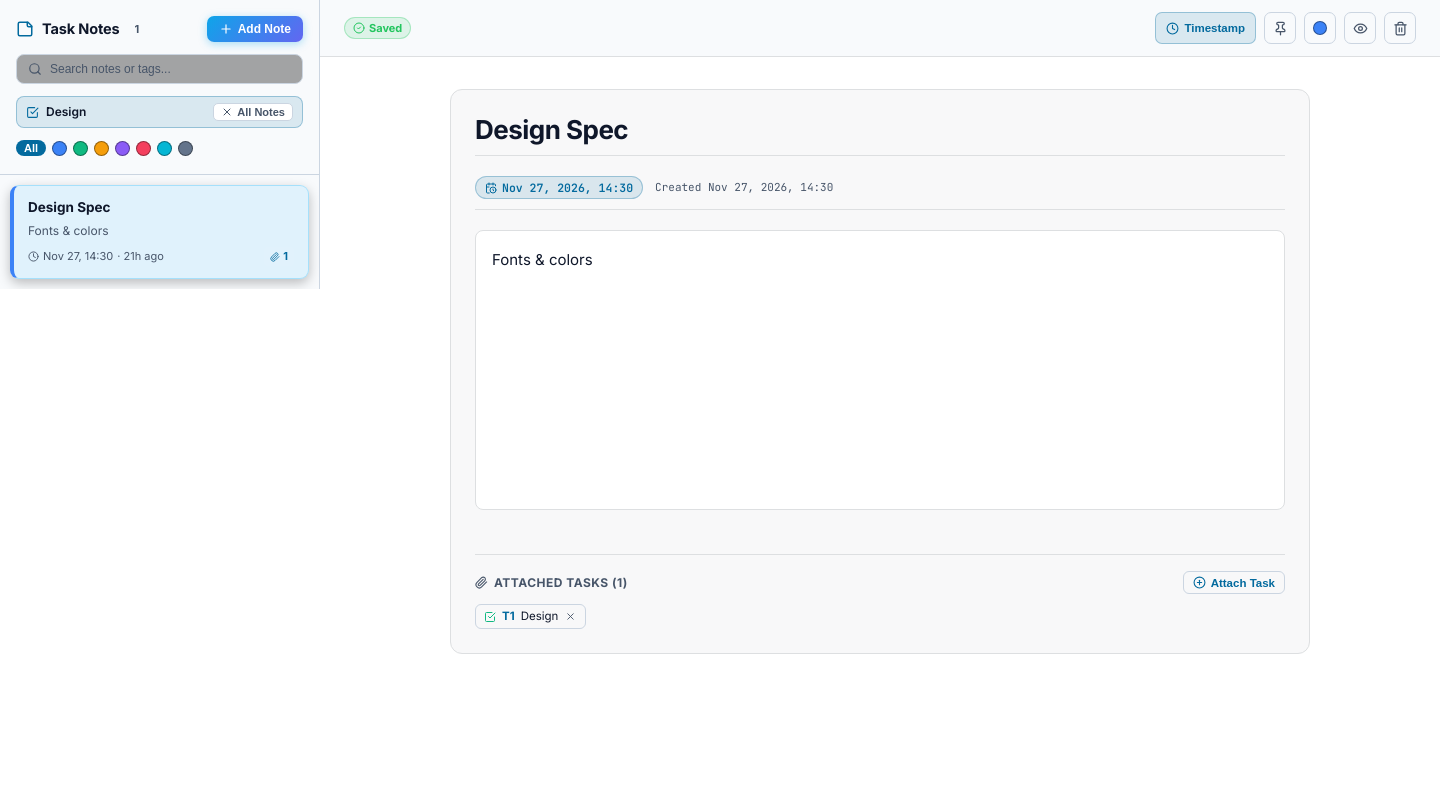
Test: NotesView › filters notes by task from notesIntent and creates linked timestamped notes for that task
The image size is (1440, 810).
Expected: the text with class "notes-task-banner-label" reads "Design", [46,104,86,119]
Expected: the element with class "note-timestamps-bar" shows "14:30", [475,176,643,199]
# Clicking Stamp Time inserts a formatted inline timestamp and saves it
Step 1. Click the button with class "note-stamp-btn" → (1206, 28), box [1156,12,1256,44]
Wait 400 ms
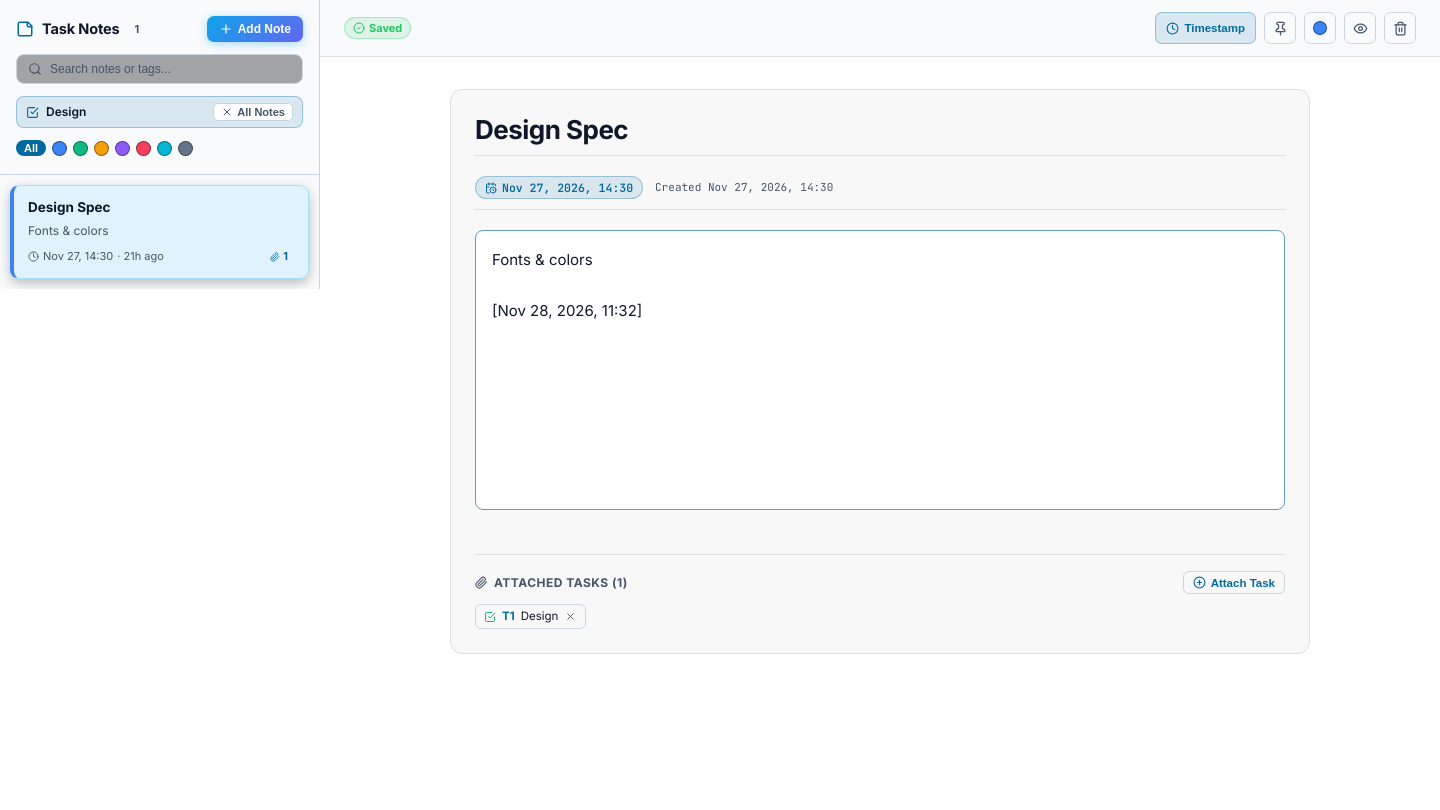
Result: the field with class "note-contenteditable-surface" reads "Fonts & colors [Nov 28, 2026, 11:32]" at [475,230,1285,510]
# Creating a new note while scoped to task T1 links task_ids: ["T1"] and sets timestamp
Step 2. Click the button with class "notes-new-btn" → (255, 29), box [207,16,303,42]
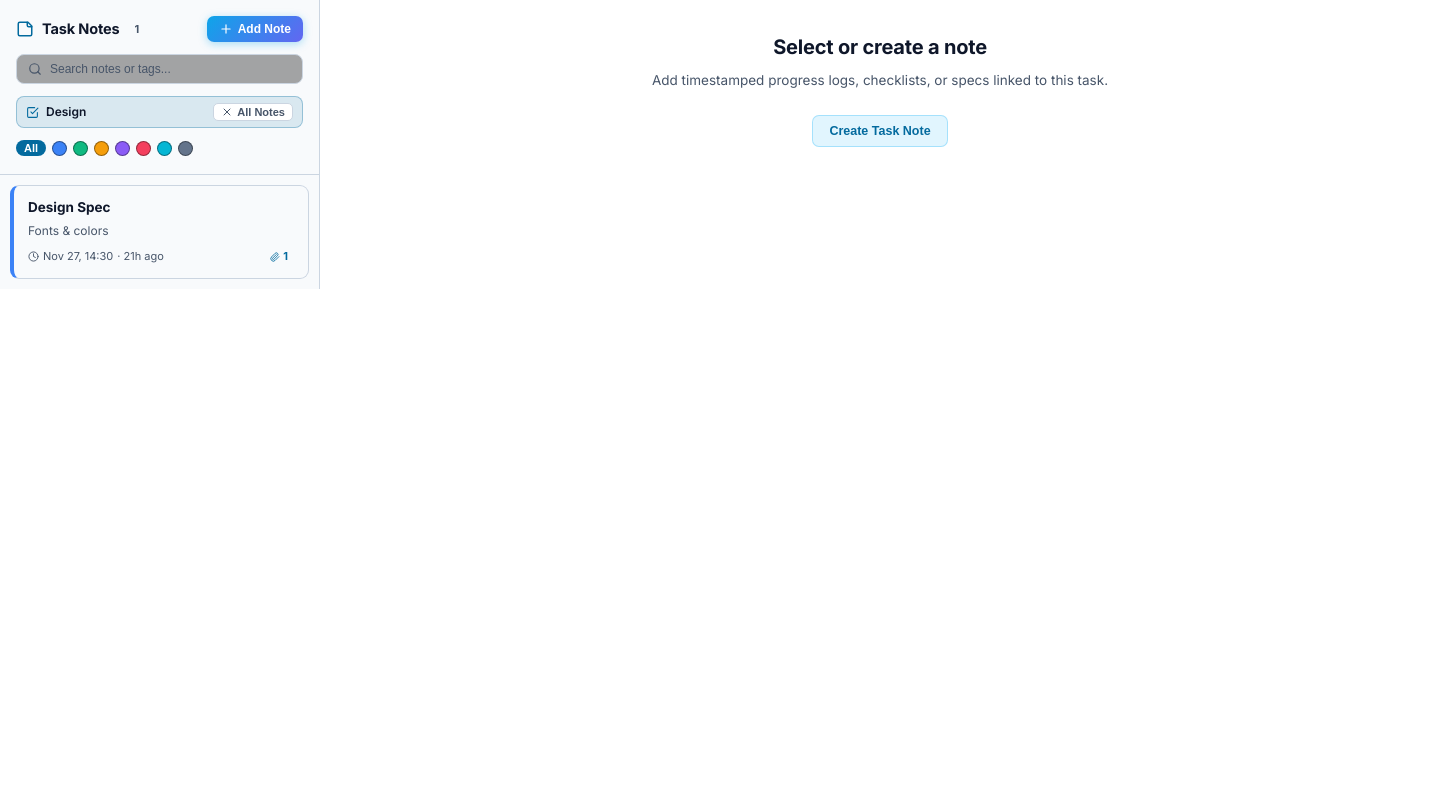
# Clearing the task filter restores all notes
Step 3. Click the button with class "notes-task-clear-btn" → (253, 112), box [213,103,293,121]
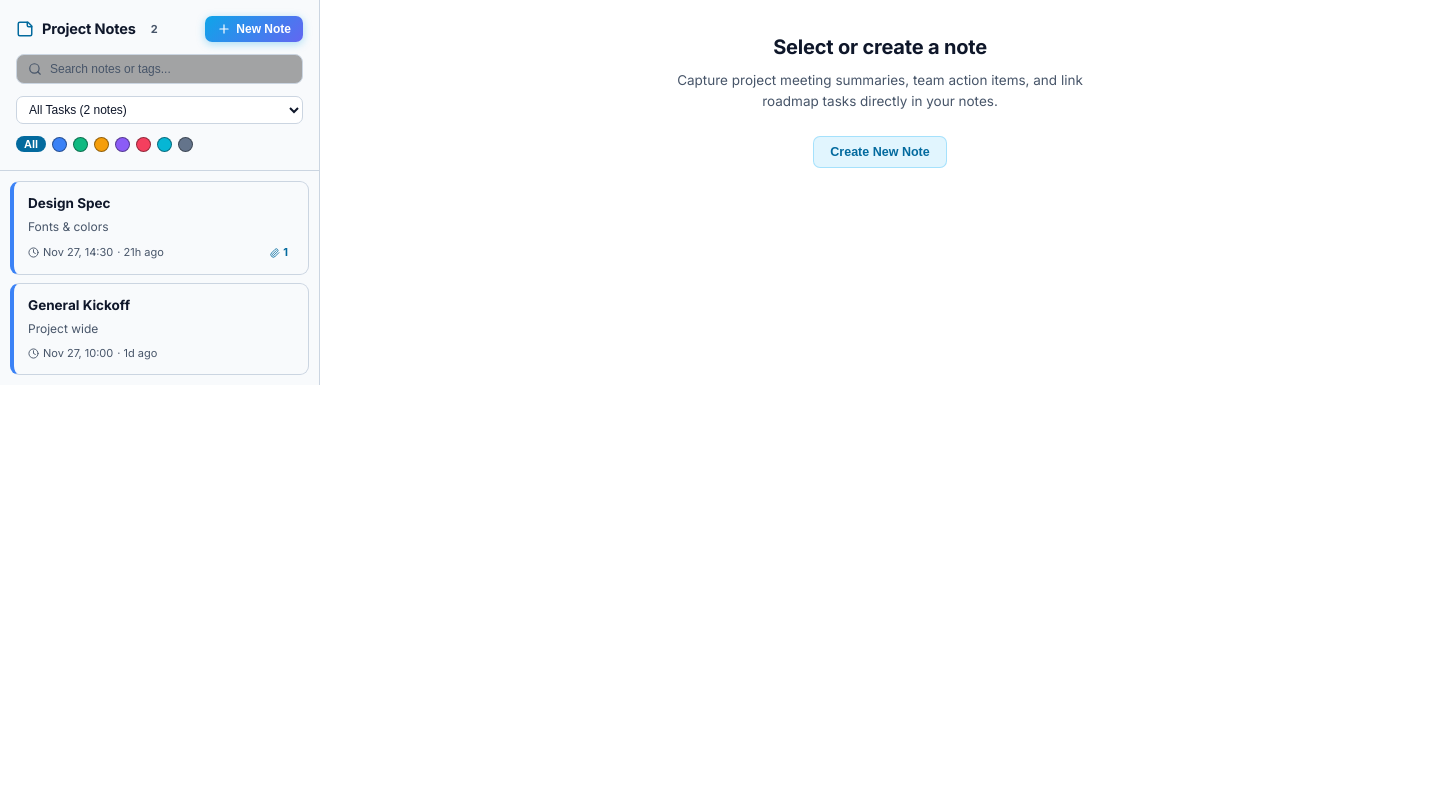
Result: the number of elements with class "note-list-item" is 2 at [10,181,309,275]; [10,283,309,375]
